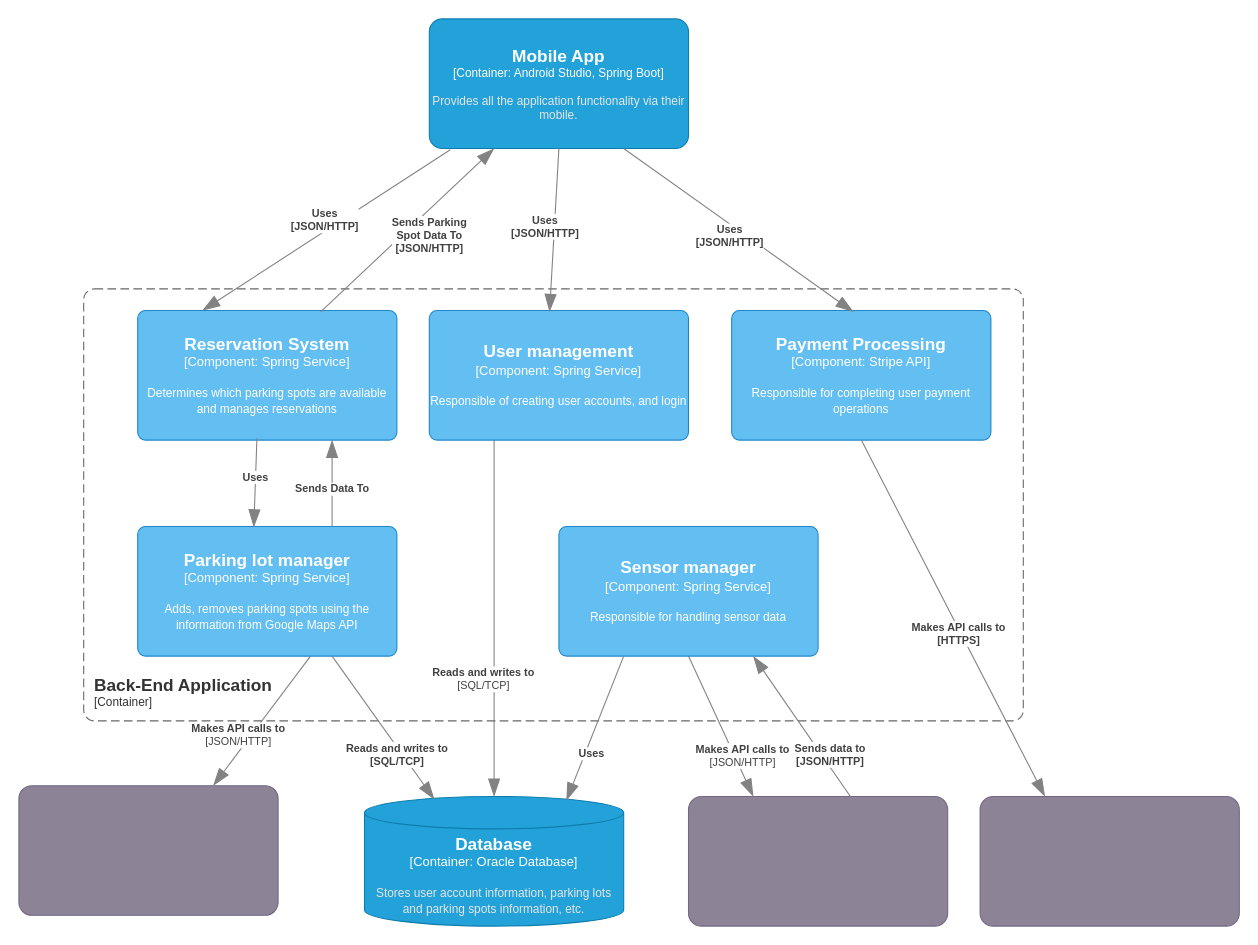
The diagram is 1258 pixels wide and 945 high, and some of its shapes have lost their labels. Each missing label, with the centre of its shape:
"Google Maps API [Software System] Provides maps, offers routes for driving." goes at (148,850).
"Parking Lot Sensor [Software System] Provides information about a parking spot" goes at (817,860).
"Stripe API [Software System] Used for handling parking spots user payments." goes at (1109,860).
